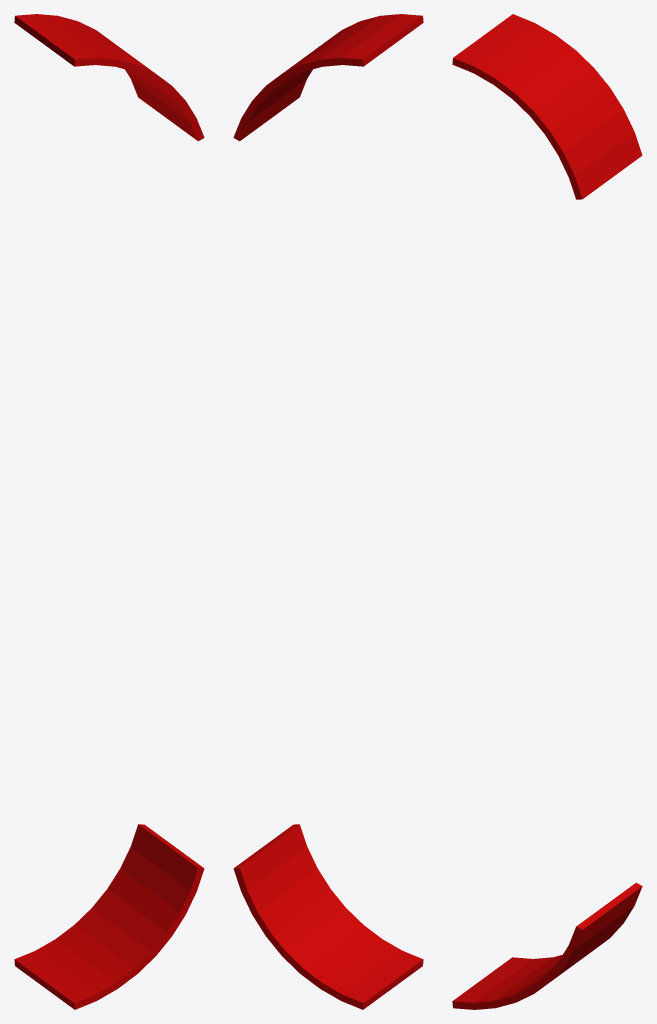
3 views of the same model, side by side, from view 1: azimuth 30°, elevation 25°; view 2: azimuth 150°, elevation 25°; view 3: azimuth 330°, elevation 25° (orthographic).
Size of the model in its own units: 0.1118 by 0.7796 by 0.0892.
